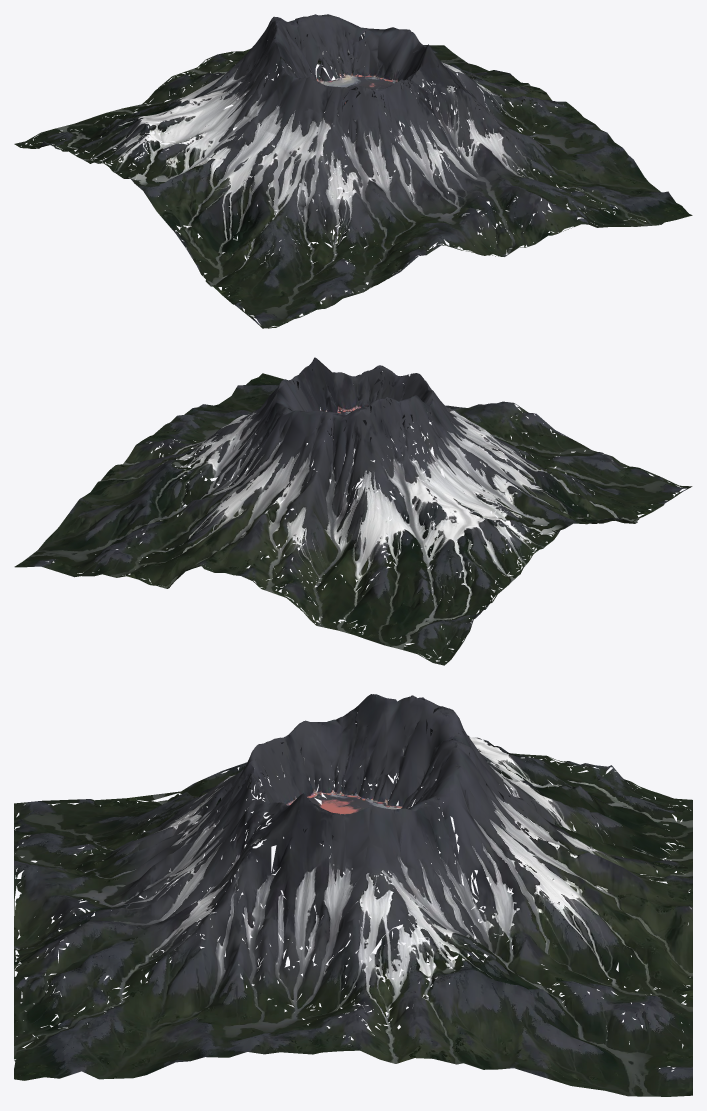
The model's file is volcano.glb.
3 views of the same model, one above another, from view 1: azimuth 30°, elevation 25°; view 2: azimuth 150°, elevation 25°; view 3: azimuth 270°, elevation 25° (orthographic). The views are drawn at different scales.
Size of the model in its own units: 0.999 by 0.359 by 0.999.
1 material, 1 textured.
